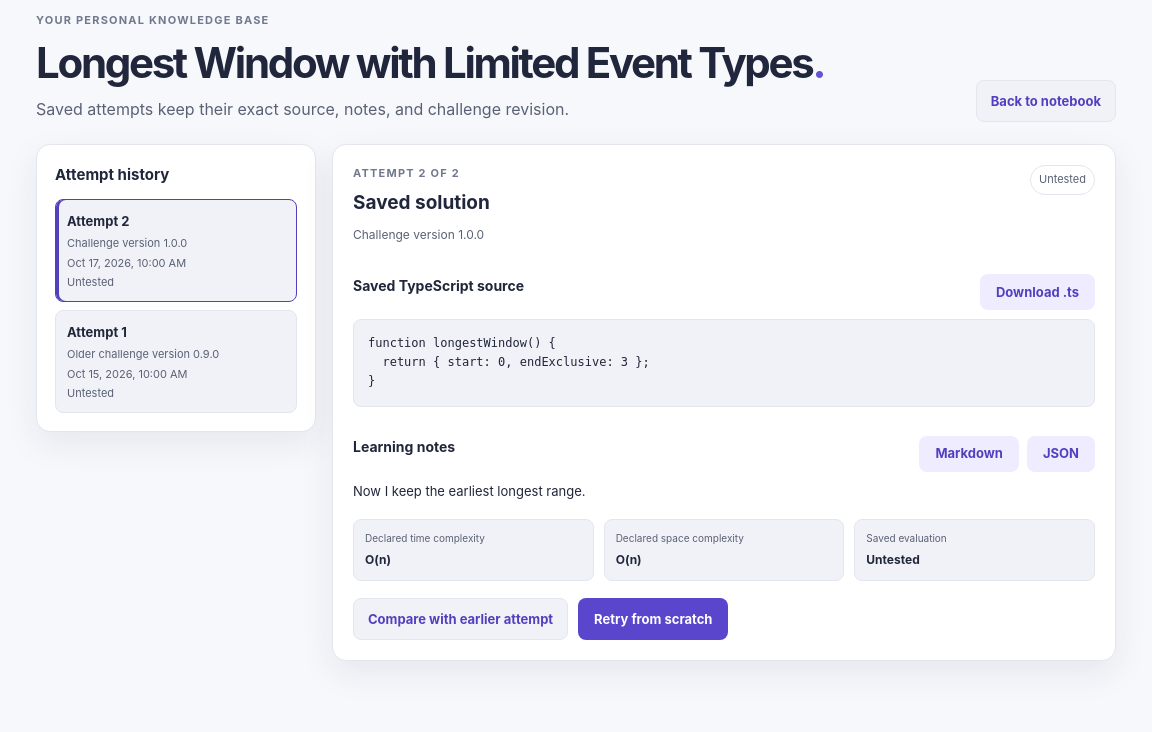
Test: Notebook challenge detail › reopens exact saved source and notes with the original challenge revision
Click the button with aria-label "Open attempt 1, version 0.9.0, Oct 15, 2026, 10:00 AM" at (176, 362), box [55,310,297,414]
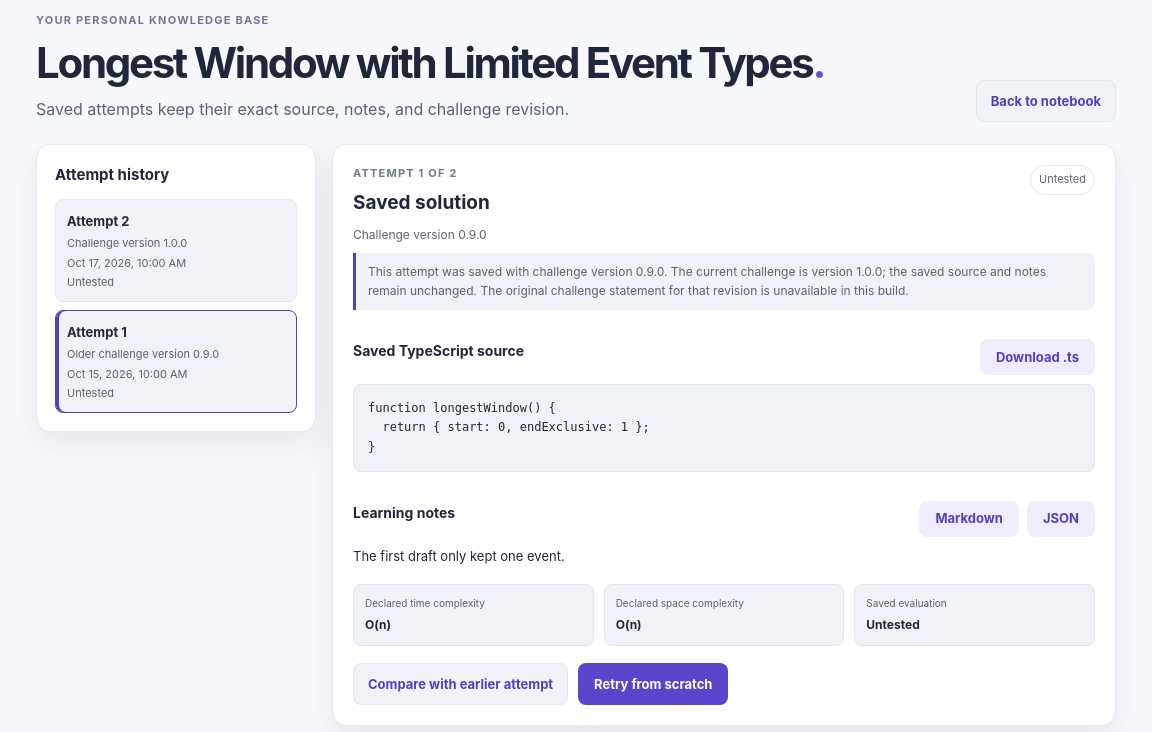
Expected: the text "The original challenge statement for that revision is unavailable in this build." is shown, [368,264,1046,298]
